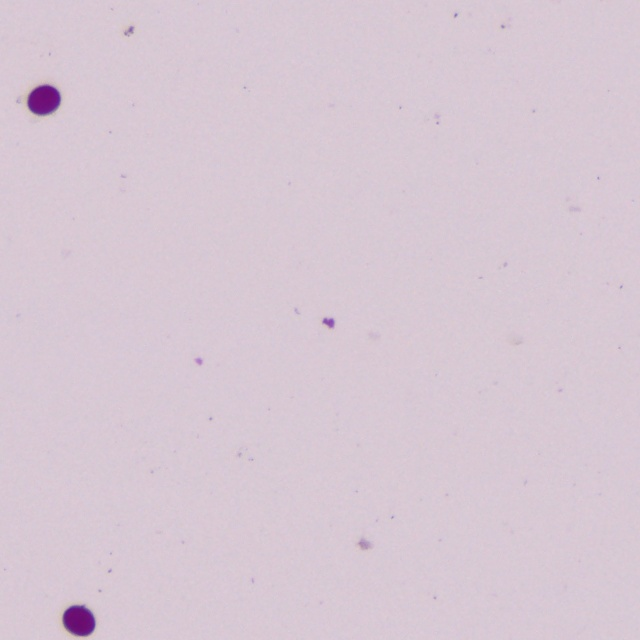viable: (28, 86, 60, 114), (64, 606, 94, 635)
